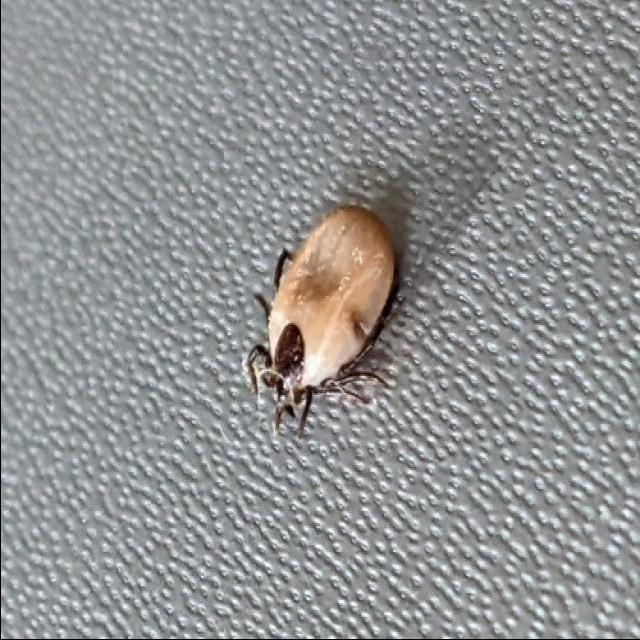Ixodes Ricinus-F-Fed: (244, 205, 403, 437)
